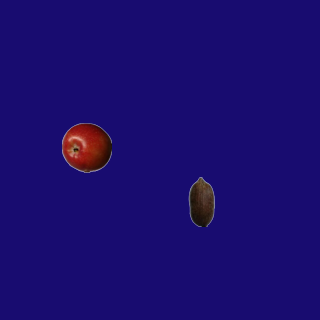Apple Braeburn: (61, 122, 111, 172)
Nut Pecan: (176, 176, 226, 226)
